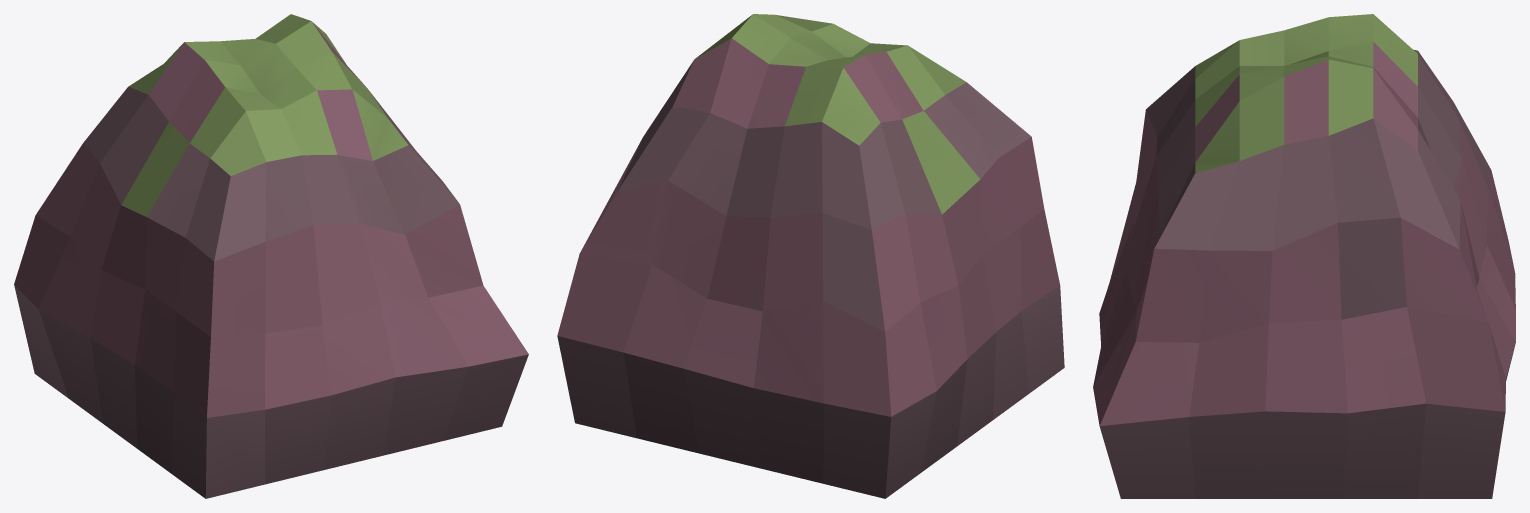
File: roca_suelta.glb
The picture shows the model from 3 angles, left to right: view 1: azimuth 30°, elevation 25°; view 2: azimuth 150°, elevation 25°; view 3: azimuth 270°, elevation 25°; orthographic projection. The views are drawn at different scales.
Parts seen in each view (by area): view 1: propforge-cuartos-roca_suelta; view 2: propforge-cuartos-roca_suelta; view 3: propforge-cuartos-roca_suelta.
Boxes of the visible parts, <box> form: propforge-cuartos-roca_suelta: <box>14,14,528,498</box>; propforge-cuartos-roca_suelta: <box>557,14,1064,498</box>; propforge-cuartos-roca_suelta: <box>1093,14,1515,498</box>.
Bounding box in the file's own units: 0.9107 × 0.9254 × 0.9113.
